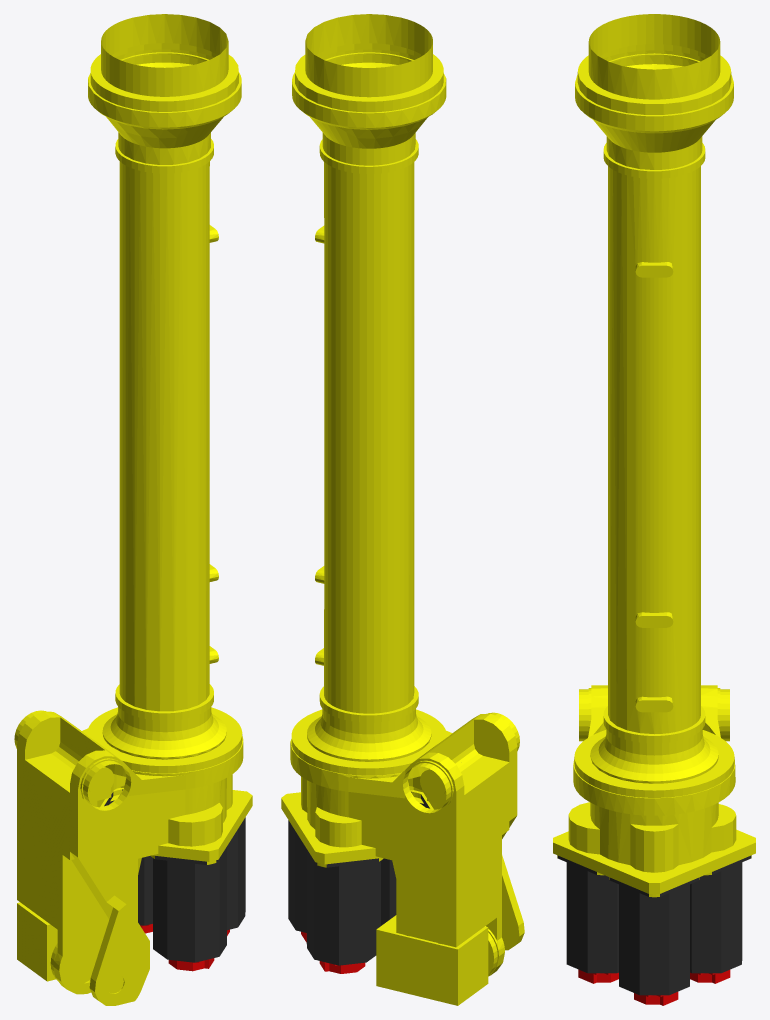
The picture shows the model from 3 angles, left to right: view 1: azimuth 30°, elevation 25°; view 2: azimuth 150°, elevation 25°; view 3: azimuth 270°, elevation 25°; orthographic projection. The views are drawn at different scales.
Parts seen in each view (by area): view 1: node; view 2: node; view 3: node.
Part boxes in pixels (x1=…): node: x1=14, y1=14, x2=252, y2=1005; node: x1=281, y1=14, x2=524, y2=1005; node: x1=553, y1=14, x2=755, y2=1005.
Size of the model in its own units: 447 by 1911 by 370.
